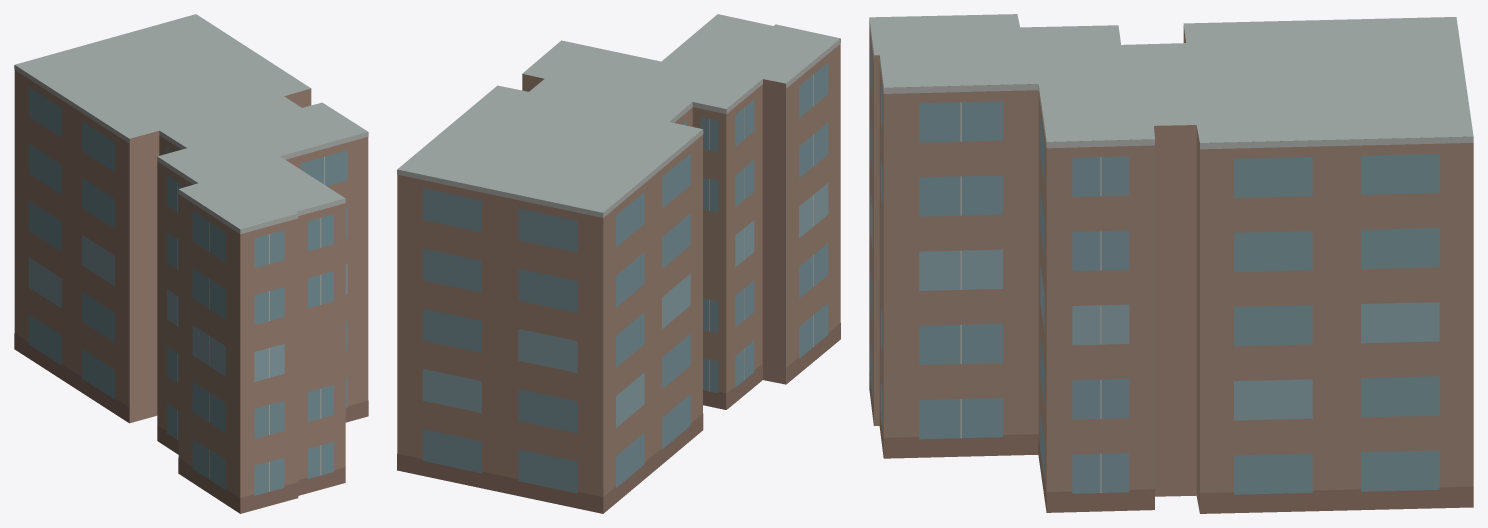
File: survey-upis-32972727.glb
3 views of the same model, side by side, from view 1: azimuth 30°, elevation 25°; view 2: azimuth 150°, elevation 25°; view 3: azimuth 270°, elevation 25° (orthographic). The views are drawn at different scales.
Parts seen in each view (by area): view 1: survey-upis-32972727.tmp; view 2: survey-upis-32972727.tmp; view 3: survey-upis-32972727.tmp.
Boxes of the visible parts, <box> form: survey-upis-32972727.tmp: <box>14,14,368,513</box>; survey-upis-32972727.tmp: <box>397,14,840,513</box>; survey-upis-32972727.tmp: <box>869,14,1473,513</box>.
Bounding box in the file's own units: 10.68 × 14.3 × 21.13.
